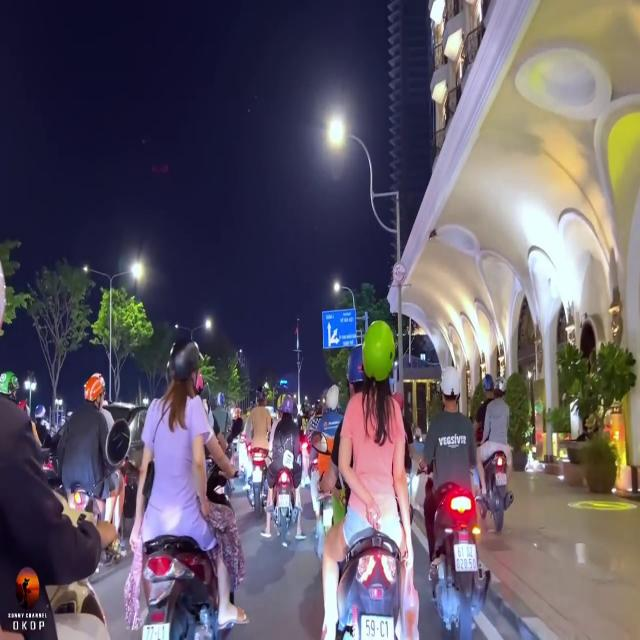bien_trang: (453, 543, 479, 579), (361, 613, 394, 640)
